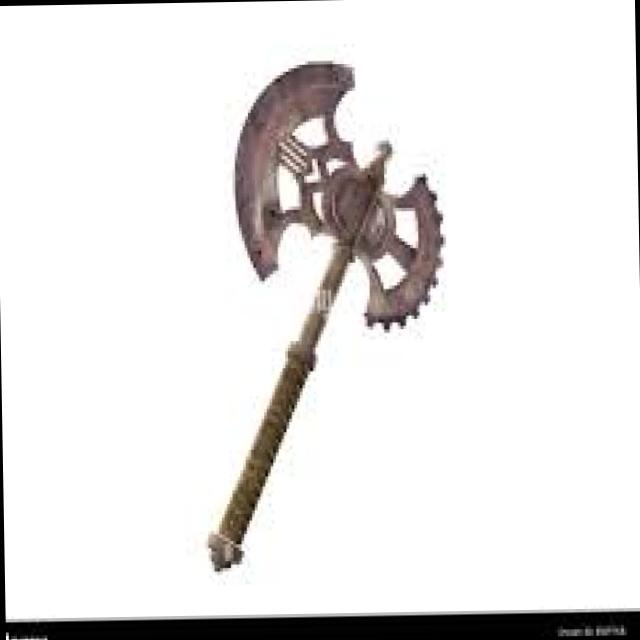Gun: (168, 32, 460, 596)
